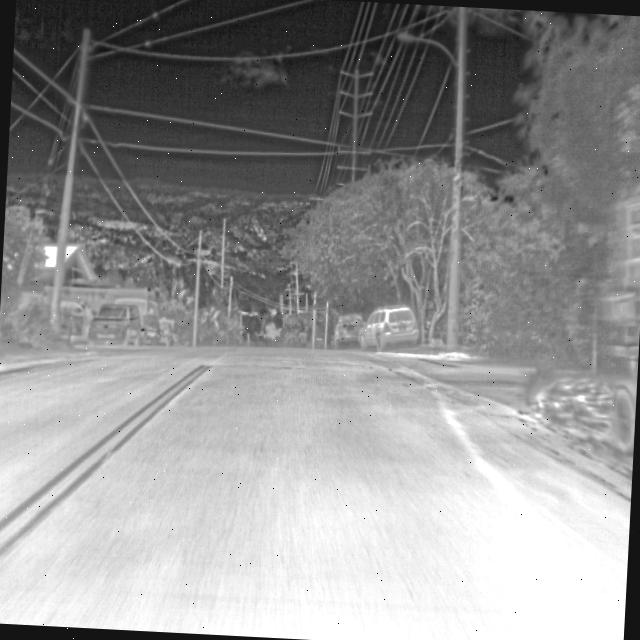Vehicle: (356, 302, 422, 355), (85, 300, 145, 352), (331, 309, 366, 350)
